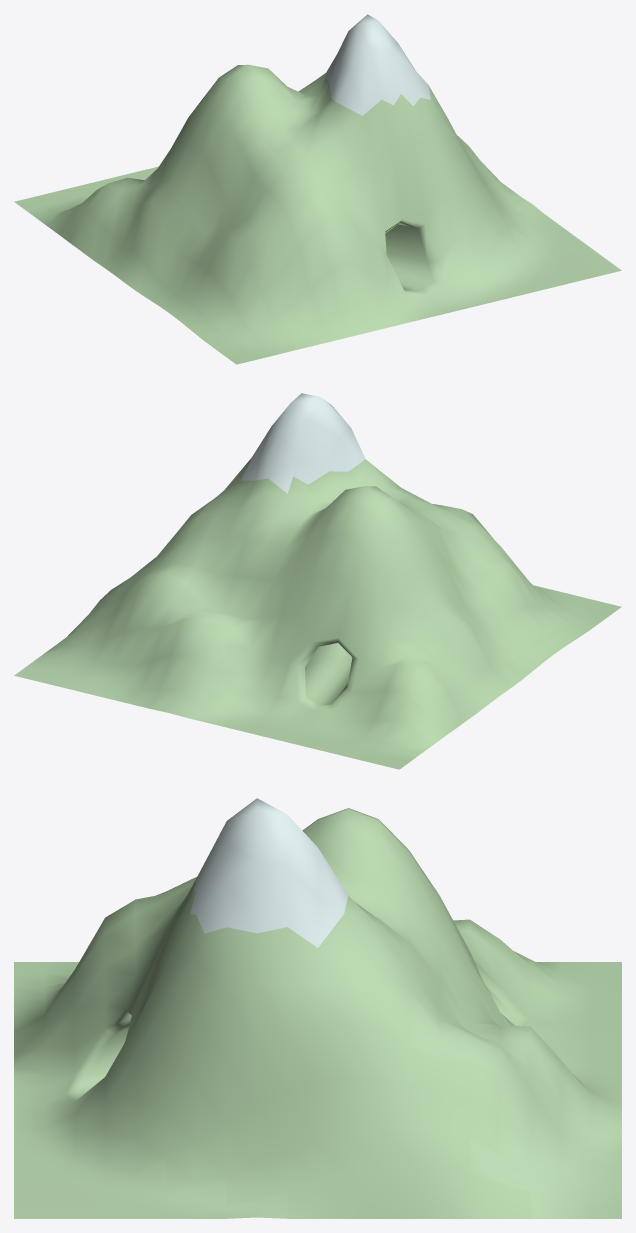
File: v02 DOuble Entraces Moutain ICe Island.fbx
3 renders of one model, top to bottom at view 1: azimuth 30°, elevation 25°; view 2: azimuth 150°, elevation 25°; view 3: azimuth 270°, elevation 25°, orthographic. The views are drawn at different scales.
Parts seen in each view (by area): view 1: pPlane1; view 2: pPlane1; view 3: pPlane1.
Part boxes in pixels (box(x1,y1,x2,y2)): pPlane1: box(14, 14, 621, 364); pPlane1: box(14, 393, 621, 769); pPlane1: box(14, 798, 621, 1218).
Bounding box in the file's own units: 22.6 × 12.54 × 22.6.
